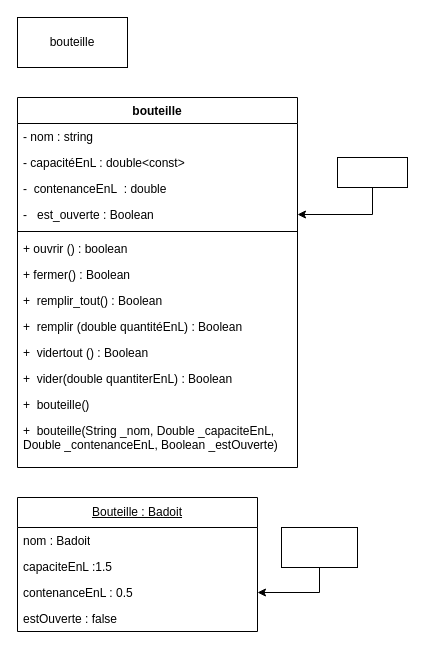
Some shapes in this 425 by 652 pixel diagram are drawn without their labels. Here are the shapes that lost their labels. From the top down, the centre of each, then its label:
pixel 372 172: Class
pixel 319 547: Object
